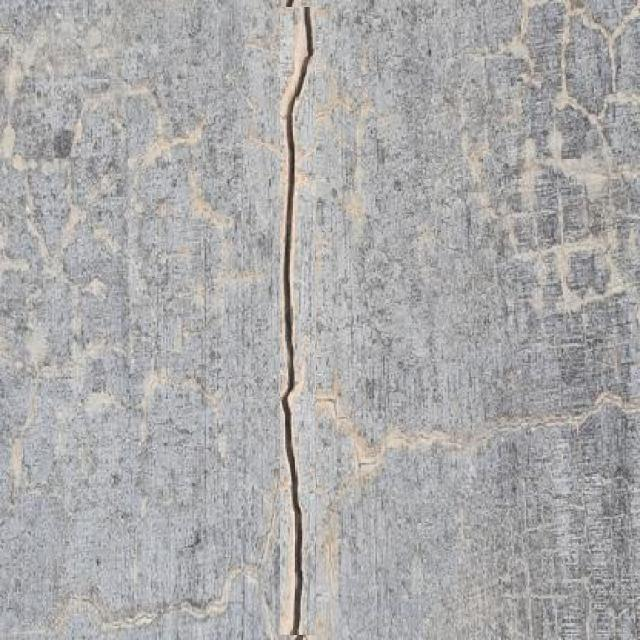vertical crack: (280, 8, 316, 633)
